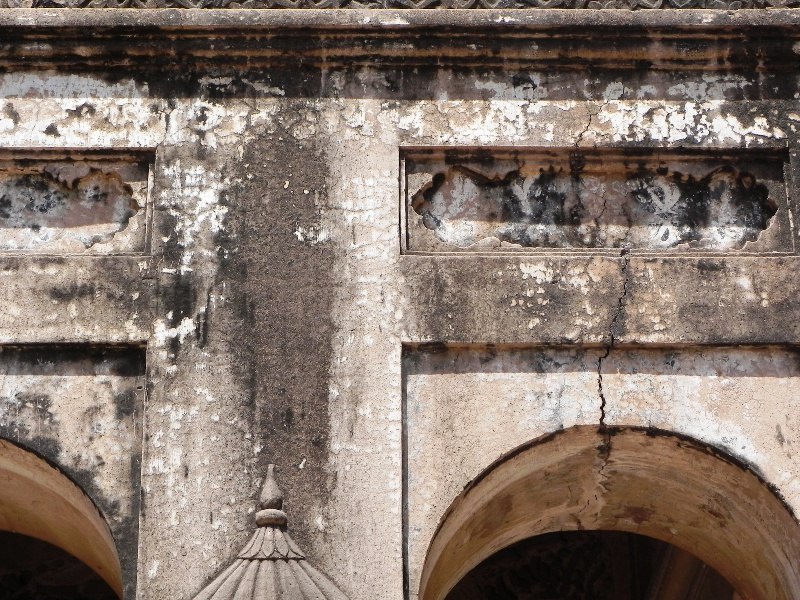Crack: (590, 251, 636, 447)
